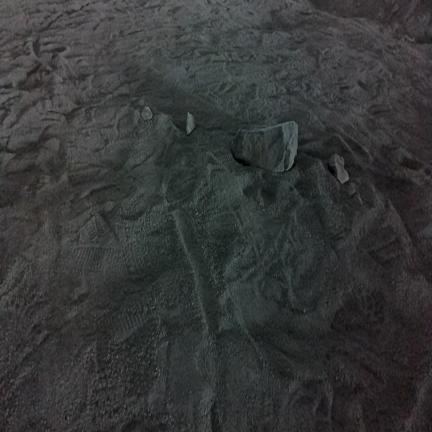Rock: (231, 122, 297, 171), (329, 154, 348, 183), (140, 106, 152, 120), (187, 113, 195, 134)
